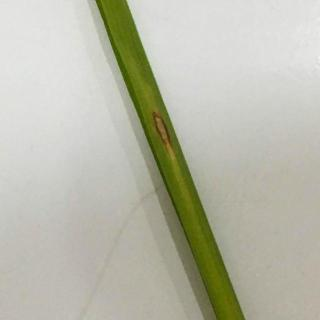Blast: (125, 78, 194, 186)
